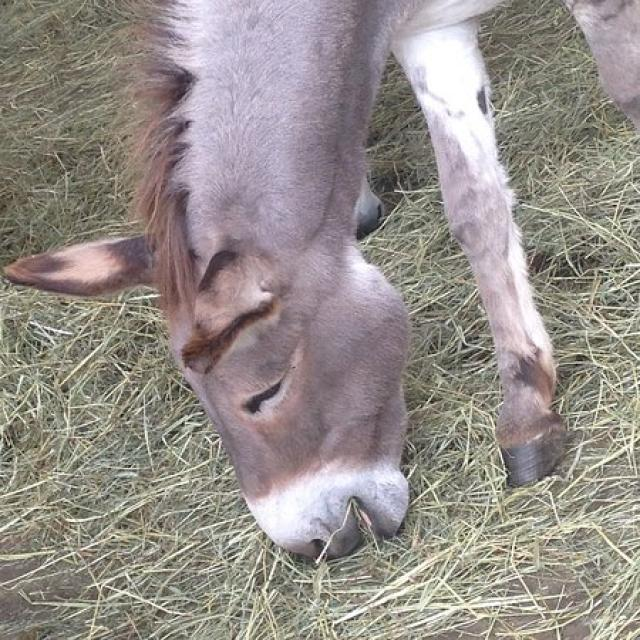Donkey: (4, 0, 628, 560)
